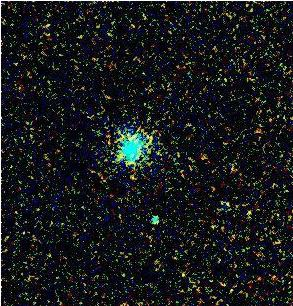star: (111, 163, 141, 193)
